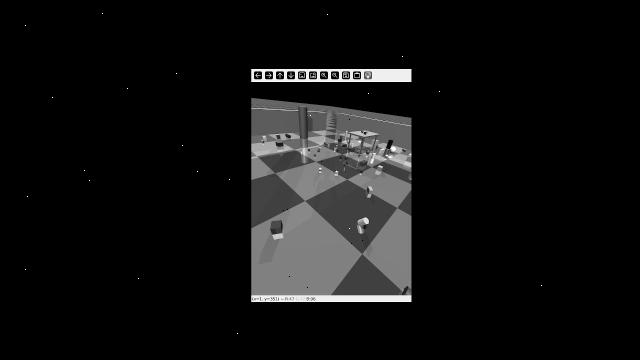cilindro: (296, 104, 308, 140), (356, 215, 370, 232), (401, 281, 414, 297), (385, 139, 393, 149), (370, 151, 378, 159), (349, 141, 356, 148), (344, 129, 350, 137), (283, 132, 292, 137), (372, 144, 380, 149), (358, 169, 364, 174), (321, 141, 326, 145), (344, 162, 347, 168), (366, 129, 370, 133), (340, 134, 344, 138), (335, 148, 339, 152), (300, 147, 303, 152), (333, 147, 336, 152), (339, 156, 342, 161), (307, 148, 310, 151)
cuadrado: (269, 219, 285, 235), (407, 153, 416, 164), (372, 139, 380, 146), (333, 169, 340, 177), (350, 147, 356, 153), (262, 133, 266, 140), (377, 165, 382, 170), (338, 138, 343, 143), (277, 139, 284, 142), (358, 153, 361, 158), (345, 156, 348, 160), (328, 142, 330, 148), (316, 150, 321, 152), (277, 135, 280, 138), (364, 132, 367, 135)
esfera: (390, 146, 398, 152), (365, 149, 371, 155), (357, 138, 363, 143), (316, 167, 321, 172), (312, 153, 317, 158), (317, 144, 321, 148), (260, 140, 265, 143), (385, 154, 389, 157), (360, 129, 364, 131), (348, 139, 350, 141), (336, 146, 338, 147)
rectangulo: (358, 159, 370, 166), (275, 142, 285, 147), (377, 148, 385, 153)
